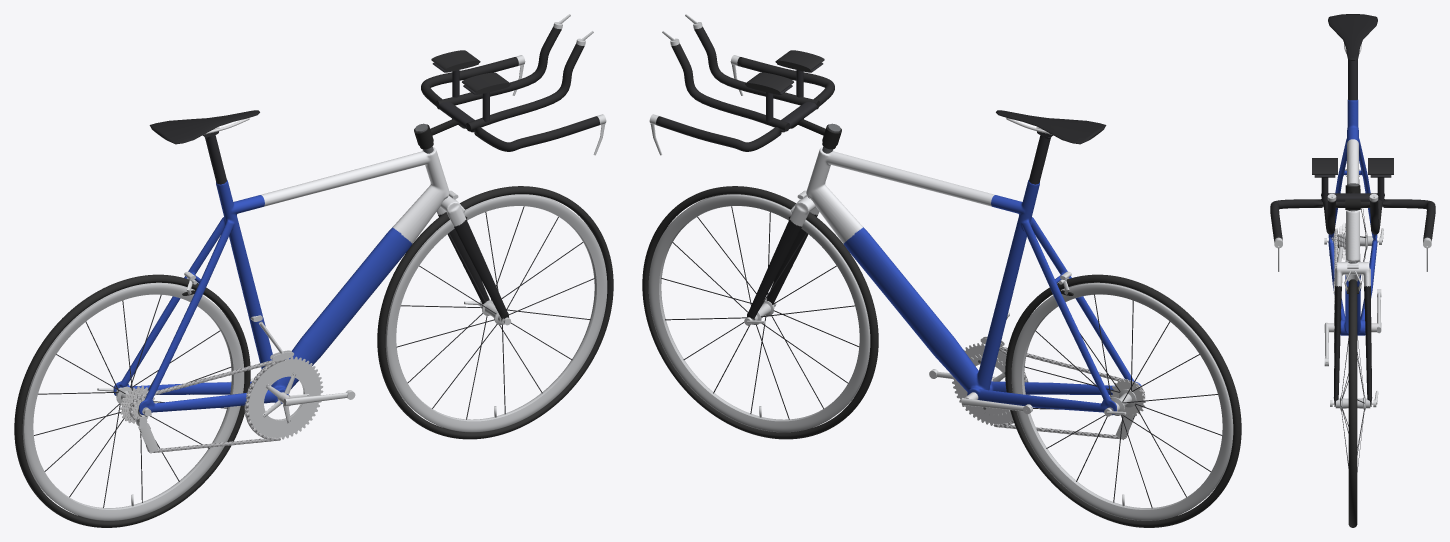
Rendered from trek_equinox_2004.glb.
The picture shows the model from 3 angles, left to right: view 1: azimuth 30°, elevation 25°; view 2: azimuth 150°, elevation 25°; view 3: azimuth 270°, elevation 25°; orthographic projection. The views are drawn at different scales.
Parts seen in each view (by area): view 1: frame, rim_front, rim_rear, tyre_front, tyre_rear, clipons, chainrings, fork, basebar, spokes_front, spokes_rear, saddle (+2 smaller); view 2: frame, rim_front, rim_rear, tyre_front, tyre_rear, clipons, fork, basebar, spokes_front, spokes_rear, saddle, chainrings (+2 smaller); view 3: frame, tyre_front, clipons, fork, basebar, saddle, crank_arms, spokes_front, seatpost, stem, hub_front, brake_levers (+1 smaller).
Boxes of the visible parts, x1,y1,x2,y2 form: frame: (113, 147, 449, 414); rim_front: (385, 194, 607, 432); rim_rear: (22, 282, 244, 520); tyre_front: (377, 186, 613, 439); tyre_rear: (14, 274, 250, 527); clipons: (431, 27, 584, 131); chainrings: (248, 356, 323, 439); fork: (436, 195, 508, 321); basebar: (421, 57, 599, 151); spokes_front: (396, 206, 594, 419); spokes_rear: (34, 294, 231, 507); saddle: (149, 110, 259, 144); frame: (806, 147, 1141, 414); rim_front: (648, 194, 870, 432); rim_rear: (1011, 282, 1233, 520); tyre_front: (642, 186, 878, 439); tyre_rear: (1005, 274, 1241, 527); clipons: (671, 27, 824, 131); fork: (747, 195, 819, 320); basebar: (656, 57, 834, 151); spokes_front: (661, 206, 859, 419); spokes_rear: (1024, 294, 1221, 508); saddle: (996, 110, 1106, 144); chainrings: (951, 343, 1012, 425); frame: (1328, 100, 1377, 335); tyre_front: (1348, 279, 1357, 527); clipons: (1312, 158, 1393, 234); fork: (1333, 262, 1372, 405); basebar: (1270, 199, 1435, 240); saddle: (1328, 14, 1377, 60); crank_arms: (1324, 289, 1381, 366); spokes_front: (1341, 335, 1364, 471); seatpost: (1348, 59, 1357, 100); stem: (1345, 183, 1360, 263); hub_front: (1334, 396, 1371, 410); brake_levers: (1274, 237, 1431, 271).
Size of the model in its own units: 1.7 by 1.07 by 0.4441.
